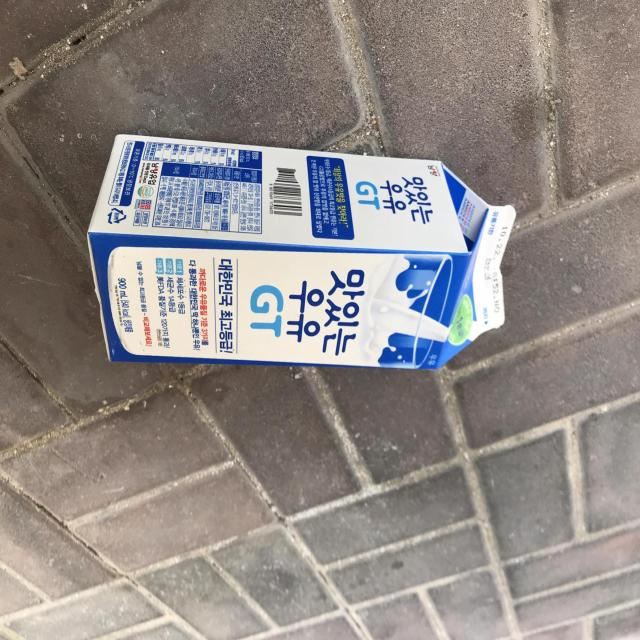paperpack: (88, 134, 516, 368)
